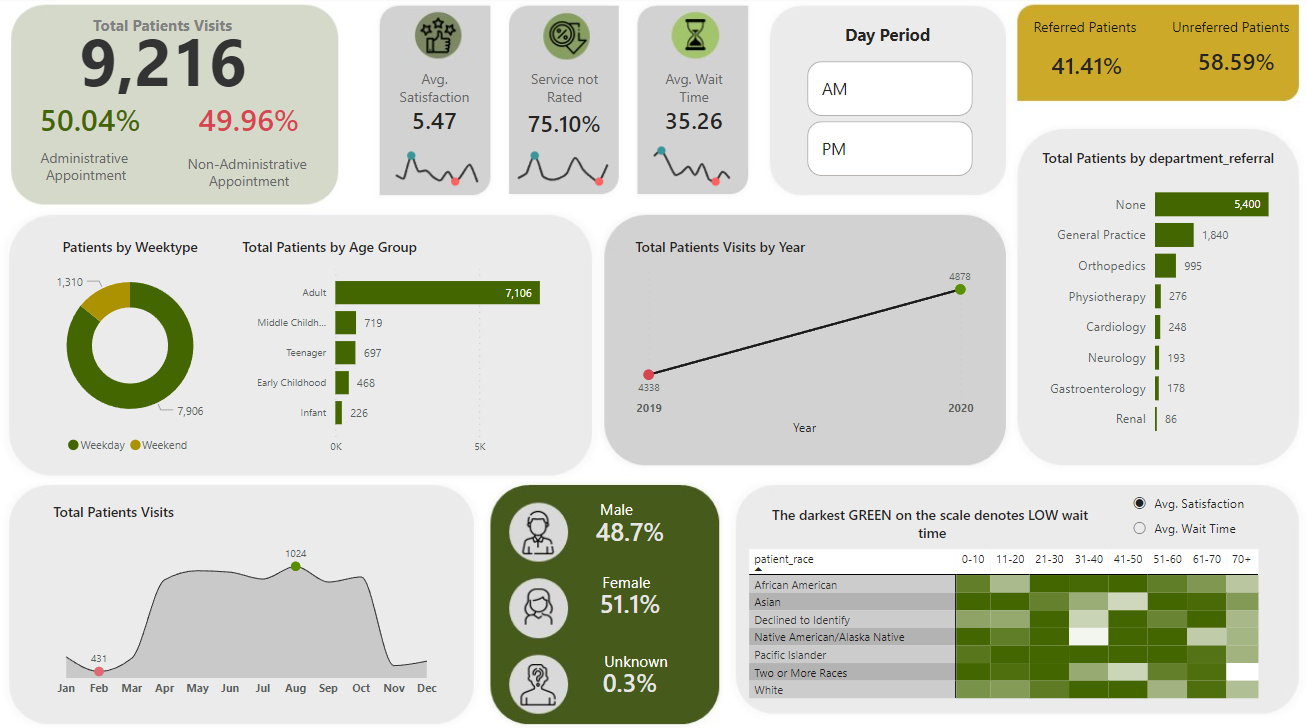

The page's visual inventory and layout, read from the dashboard file:
{"tool":"powerbi","page":{"name":"Page 1","canvas":[1280,720],"ordinal":0},"visuals":[{"type":"card","fields":{"Values":["Calculations.Total Patients"]},"box":[70.5,12.6,191.3,91.8],"z":0},{"type":"card","fields":{"Values":["Calculations.% Administrative Schedule"]},"box":[34.8,96.6,122.7,44.4],"z":1000},{"type":"card","fields":{"Values":["Calculations.% Non Administrative Schedule"]},"box":[178.7,89.8,141,57],"z":2000},{"type":"pivotTable","fields":{"Values":["Calculations.Average Satisfaction Score"],"Rows":["Patients Dataset.patient_race"],"Columns":["Patients Dataset.Age Buckets"]},"box":[727.4,528.4,519.7,161.3],"z":3000},{"type":"slicer","fields":{"Values":["Parameter 2.Parameter"]},"box":[1090.7,471.4,168.1,68.6],"z":4000},{"type":"barChart","fields":{"Category":["Patients Dataset.Age Group"],"Y":["Calculations.Total Patients"]},"box":[237.6,232.8,328.5,217.4],"z":5000},{"type":"areaChart","title":"Total Patients Visits","fields":{"Category":["Date.Month"],"Y":["Calculations.Total Patients","Calculations.Values Max Point (Month)"]},"box":[55.1,488.8,383.5,197.1],"z":6000},{"type":"lineChart","title":"Total Patients Visits by Year","fields":{"Y":["Calculations.Total Patients","Calculations.Values Max Point (Year)"],"Category":["Date.Year"]},"box":[617.3,232.8,337.1,195.1],"z":7000},{"type":"clusteredBarChart","fields":{"Y":["Calculations.Total Patients"],"Category":["Patients Dataset.department_referral"]},"box":[1010.5,146.8,257.9,289.8],"z":8000},{"type":"textbox","box":[26.1,141,131.4,48.3],"z":9000},{"type":"textbox","box":[178.7,146.8,141,48.3],"z":10000},{"type":"card","title":"Avg. Satisfaction","fields":{"Values":["Calculations.Average Satisfaction Score"]},"box":[381.6,70.5,93.7,65.7],"z":11000},{"type":"card","title":"Service not Rated","fields":{"Values":["Calculations.% No Rating"]},"box":[503.3,70.5,101.4,70.5],"z":12000},{"type":"card","title":"Avg. Wait Time","fields":{"Values":["Calculations.Average Wait Time"]},"box":[630.8,70.5,96.6,65.7],"z":13000},{"type":"card","fields":{"Values":["Calculations.% Referred Patients"]},"box":[1003.7,43.5,110.1,46.4],"z":14000},{"type":"card","fields":{"Values":["Calculations.% Unreferred Patients"]},"box":[1147.7,35.7,111.1,54.1],"z":15000},{"type":"textbox","box":[986.3,14.6,140.6,29.2],"z":16000},{"type":"textbox","box":[1126.9,14.6,140.6,29.2],"z":17000},{"type":"donutChart","title":"Patients by Weektype","fields":{"Y":["Calculations.Total Patients"],"Series":["Date.Weektype"]},"box":[0,232.8,268.6,217.4],"z":18000},{"type":"card","fields":{"Values":["Calculations.HeatMap Caption"]},"box":[727.4,479.2,363.2,60.9],"z":19000},{"type":"advancedSlicerVisual","fields":{"Values":["Patients Dataset.Moment"]},"box":[783.5,57,171,122.7],"z":20000},{"type":"card","fields":{"Values":["Calculations.% Female Visit"]},"box":[574.8,495.6,85,44.4],"z":21000},{"type":"card","fields":{"Values":["Calculations.% Male Visit"]},"box":[574.8,565.1,85,44.4],"z":22000},{"type":"card","fields":{"Values":["Calculations.% Unknown"]},"box":[574.8,641.4,85,44.4],"z":23000},{"type":"textbox","box":[55.1,11.6,221.2,31.9],"z":24000},{"type":"PBI_CV_25997FEB_F466_44FA_B562_AC4063283C4C","fields":{"measure":["Calculations.Average Satisfaction Score"],"axis":["Date.Month"]},"box":[373.9,136.2,117.9,53.1],"z":25000},{"type":"PBI_CV_25997FEB_F466_44FA_B562_AC4063283C4C","fields":{"measure":["Calculations.% No Rating"],"axis":["Date.Month"]},"box":[491.7,136.2,125.6,53.1],"z":26000},{"type":"PBI_CV_25997FEB_F466_44FA_B562_AC4063283C4C","fields":{"measure":["Calculations.Average Wait Time"],"axis":["Date.Month"]},"box":[623.1,131.4,112.1,58],"z":27000},{"type":"textbox","box":[539,479.2,130.4,30.9],"z":28000},{"type":"textbox","box":[548.7,549.7,130.4,30.9],"z":29000},{"type":"textbox","box":[575.8,626,94.7,30.9],"z":30000},{"type":"textbox","box":[786.4,20.3,159.4,42.5],"z":30001}]}

Visuals, with their boxes in screenshot pixels (x1, y1, x2, y2), scaled from the page's 1280x720 canvas onto the 1307x728 screenshot:
card - Calculations.Total Patients: region(72, 13, 267, 106)
card - Calculations.% Administrative Schedule: region(36, 98, 161, 143)
card - Calculations.% Non Administrative Schedule: region(182, 91, 326, 148)
pivotTable - Calculations.Average Satisfaction Score x Patients Dataset.patient_race: region(743, 534, 1273, 697)
slicer - Parameter 2.Parameter: region(1114, 477, 1285, 546)
barChart - Patients Dataset.Age Group x Calculations.Total Patients: region(243, 235, 578, 455)
"Total Patients Visits" areaChart: region(56, 494, 448, 694)
"Total Patients Visits by Year" lineChart: region(630, 235, 975, 433)
clusteredBarChart - Calculations.Total Patients x Patients Dataset.department_referral: region(1032, 148, 1295, 441)
textbox: region(27, 143, 161, 191)
textbox: region(182, 148, 326, 197)
"Avg. Satisfaction" card: region(390, 71, 485, 138)
"Service not Rated" card: region(514, 71, 617, 143)
"Avg. Wait Time" card: region(644, 71, 743, 138)
card - Calculations.% Referred Patients: region(1025, 44, 1137, 91)
card - Calculations.% Unreferred Patients: region(1172, 36, 1285, 91)
textbox: region(1007, 15, 1151, 44)
textbox: region(1151, 15, 1294, 44)
"Patients by Weektype" donutChart: region(0, 235, 274, 455)
card - Calculations.HeatMap Caption: region(743, 485, 1114, 546)
advancedSlicerVisual - Patients Dataset.Moment: region(800, 58, 975, 182)
card - Calculations.% Female Visit: region(587, 501, 674, 546)
card - Calculations.% Male Visit: region(587, 571, 674, 616)
card - Calculations.% Unknown: region(587, 649, 674, 693)
textbox: region(56, 12, 282, 44)
PBI_CV_25997FEB_F466_44FA_B562_AC4063283C4C - Calculations.Average Satisfaction Score x Date.Month: region(382, 138, 502, 191)
PBI_CV_25997FEB_F466_44FA_B562_AC4063283C4C - Calculations.% No Rating x Date.Month: region(502, 138, 630, 191)
PBI_CV_25997FEB_F466_44FA_B562_AC4063283C4C - Calculations.Average Wait Time x Date.Month: region(636, 133, 751, 192)
textbox: region(550, 485, 684, 516)
textbox: region(560, 556, 693, 587)
textbox: region(588, 633, 685, 664)
textbox: region(803, 21, 966, 63)
